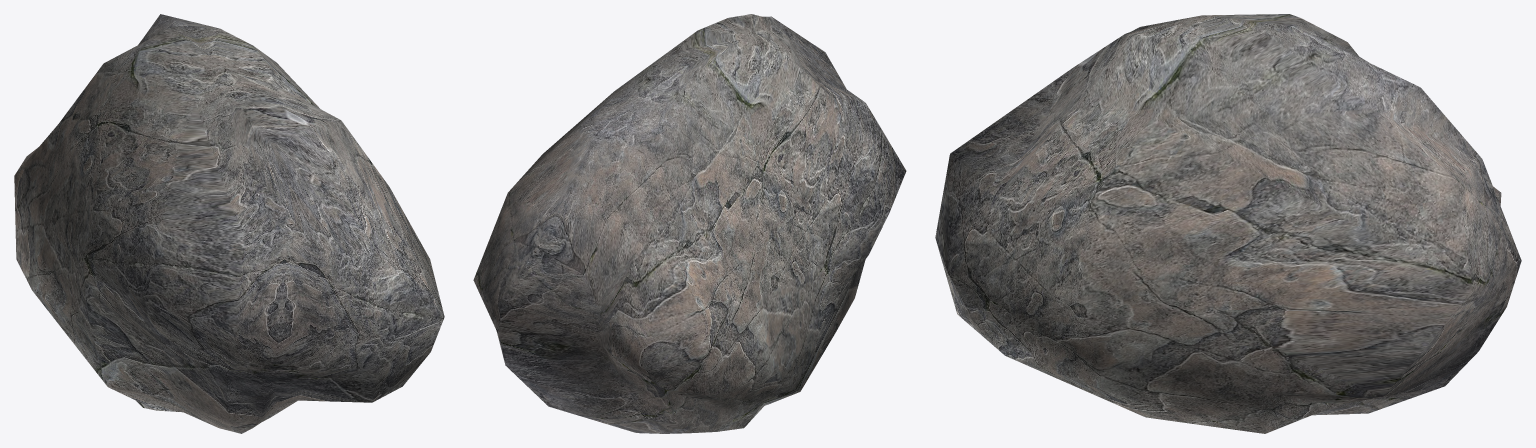
Rendered from rock013.FBX.
3 views of the same model, side by side, from view 1: azimuth 30°, elevation 25°; view 2: azimuth 150°, elevation 25°; view 3: azimuth 270°, elevation 25° (orthographic). The views are drawn at different scales.
Visible parts, largest first — view 1: rock013; view 2: rock013; view 3: rock013.
Boxes of the visible parts, left/top/right/bottom form: rock013: left=14, top=14, right=444, bottom=433; rock013: left=473, top=14, right=906, bottom=433; rock013: left=935, top=14, right=1521, bottom=433.
Bounding box in the file's own units: 1222 × 1588 × 2163.
Materials: 1 (1 with a texture image).
